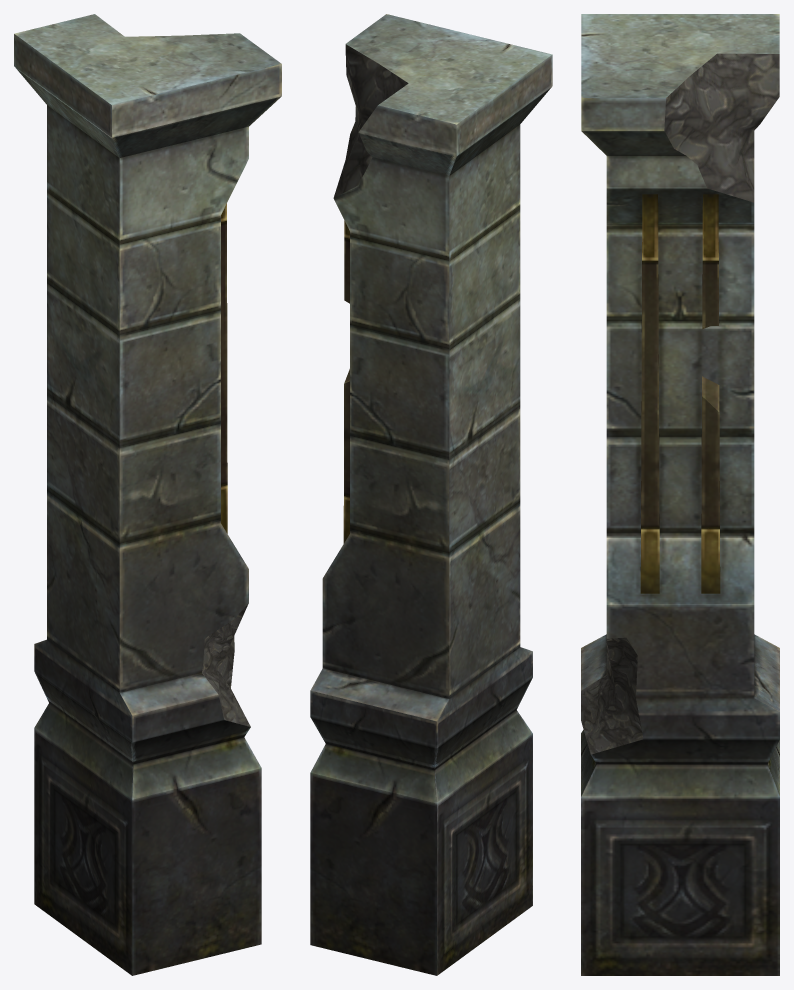
Rendered from F_zhuzi007.fbx.
3 renders of one model, left to right at view 1: azimuth 30°, elevation 25°; view 2: azimuth 150°, elevation 25°; view 3: azimuth 270°, elevation 25°, orthographic. The views are drawn at different scales.
Visible parts, largest first — view 1: F_zhuzi007; view 2: F_zhuzi007; view 3: F_zhuzi007.
Boxes of the visible parts, box(x1,y1,x2,y2) form: F_zhuzi007: box(14, 14, 281, 975); F_zhuzi007: box(310, 14, 552, 975); F_zhuzi007: box(581, 14, 779, 975).
Size of the model in its own units: 63.16 by 311 by 63.13.
